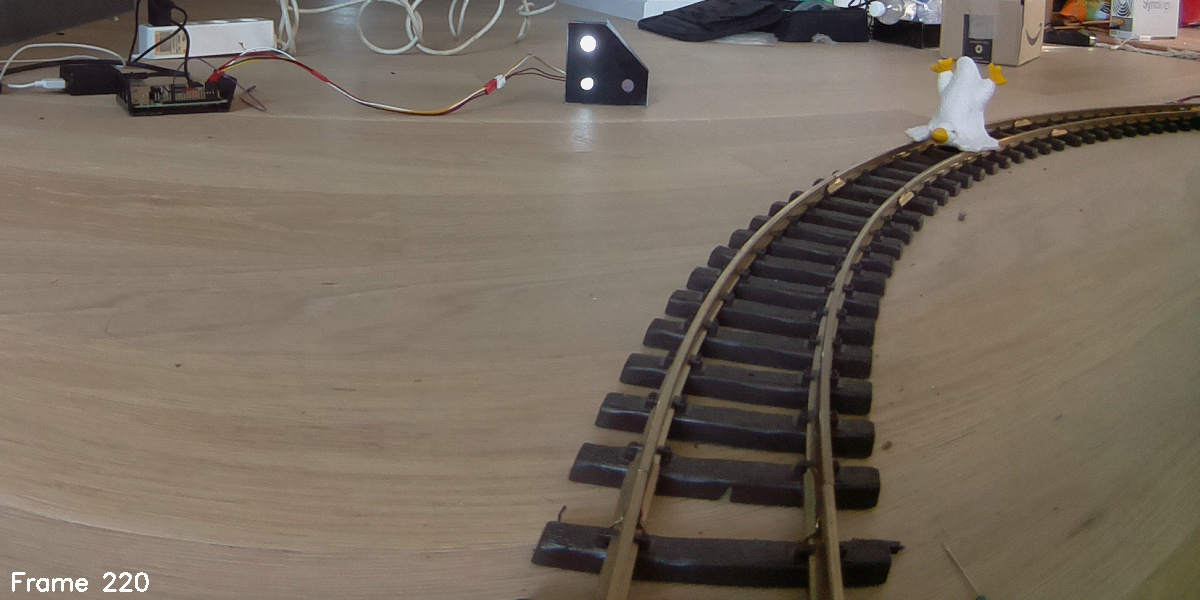Ente: (901, 54, 1008, 160)
Fahrt: (564, 19, 649, 106)
